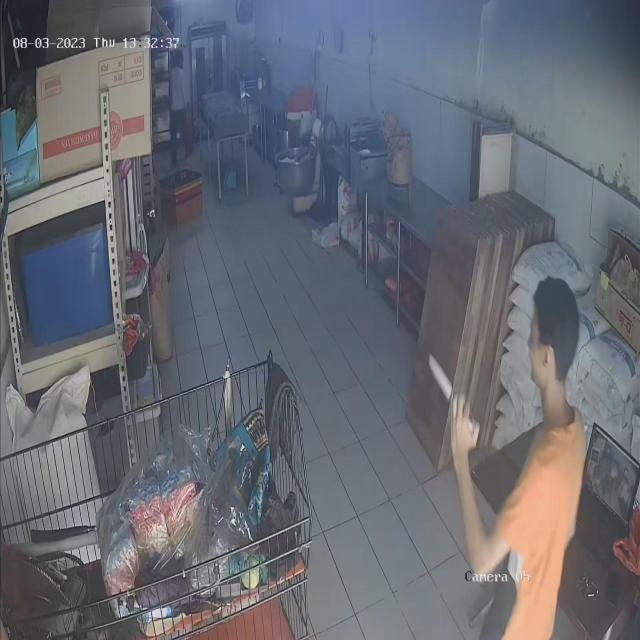Knife: (412, 341, 477, 428)
